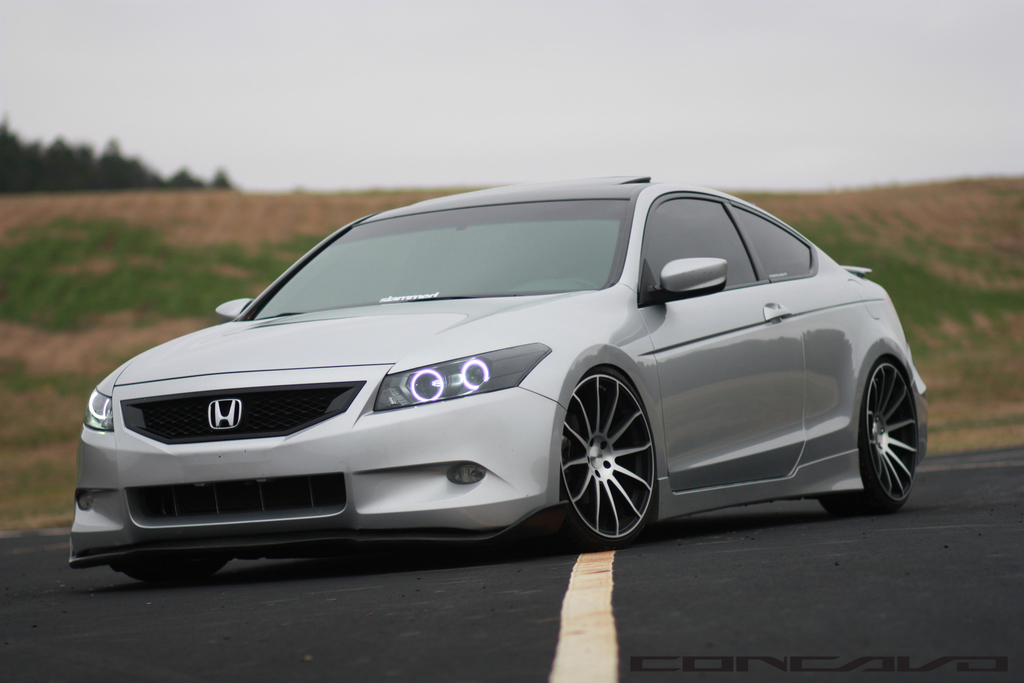Car: (78, 180, 916, 565)
